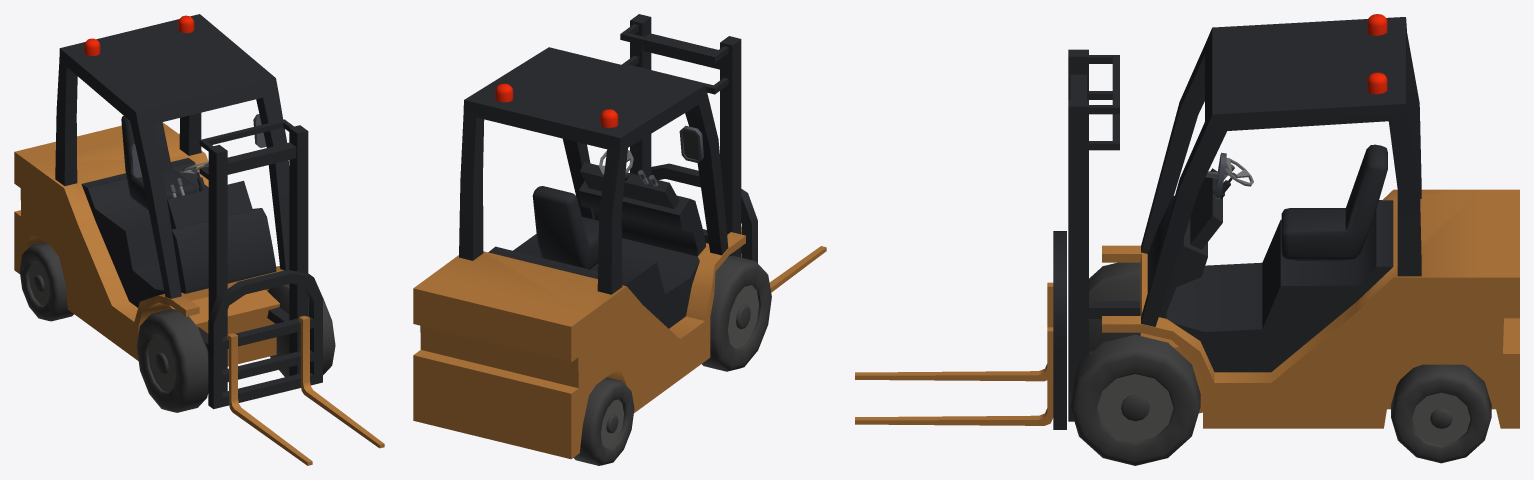
Rendered from Forklift_1.fbx.
3 renders of one model, left to right at view 1: azimuth 30°, elevation 25°; view 2: azimuth 150°, elevation 25°; view 3: azimuth 270°, elevation 25°, orthographic. The views are drawn at different scales.
Visible parts, largest first — view 1: Forklift_1; view 2: Forklift_1; view 3: Forklift_1.
Boxes of the visible parts, x1,y1,x2,y2 form: Forklift_1: (14, 14, 384, 465); Forklift_1: (413, 14, 826, 465); Forklift_1: (855, 14, 1519, 465).
Bounding box in the file's own units: 170 × 304 × 488.
